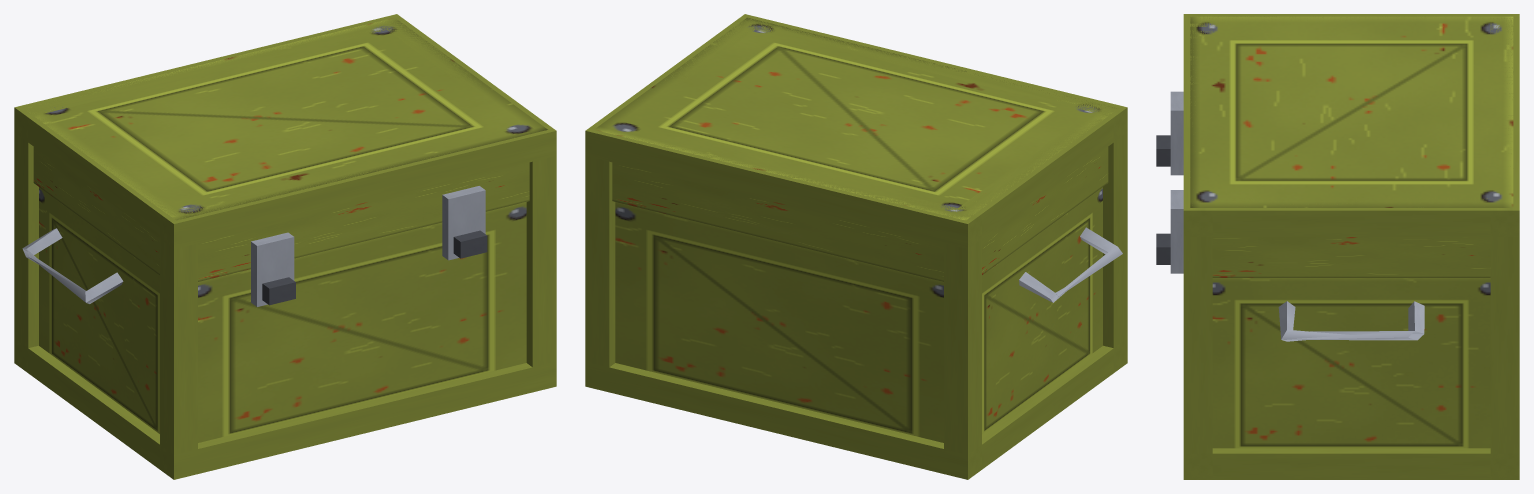
File: Crate_Small1.fbx
3 renders of one model, left to right at view 1: azimuth 30°, elevation 25°; view 2: azimuth 150°, elevation 25°; view 3: azimuth 270°, elevation 25°, orthographic. The views are drawn at different scales.
Parts seen in each view (by area): view 1: Crate_Small1_Body; view 2: Crate_Small1_Body; view 3: Crate_Small1_Body.
Boxes of the visible parts, left/top/right/bottom form: Crate_Small1_Body: left=14, top=14, right=556, bottom=479; Crate_Small1_Body: left=585, top=14, right=1127, bottom=479; Crate_Small1_Body: left=1156, top=14, right=1519, bottom=479.
Bounding box in the file's own units: 0.8774 × 0.46 × 0.5625.
1 material, 1 textured.
